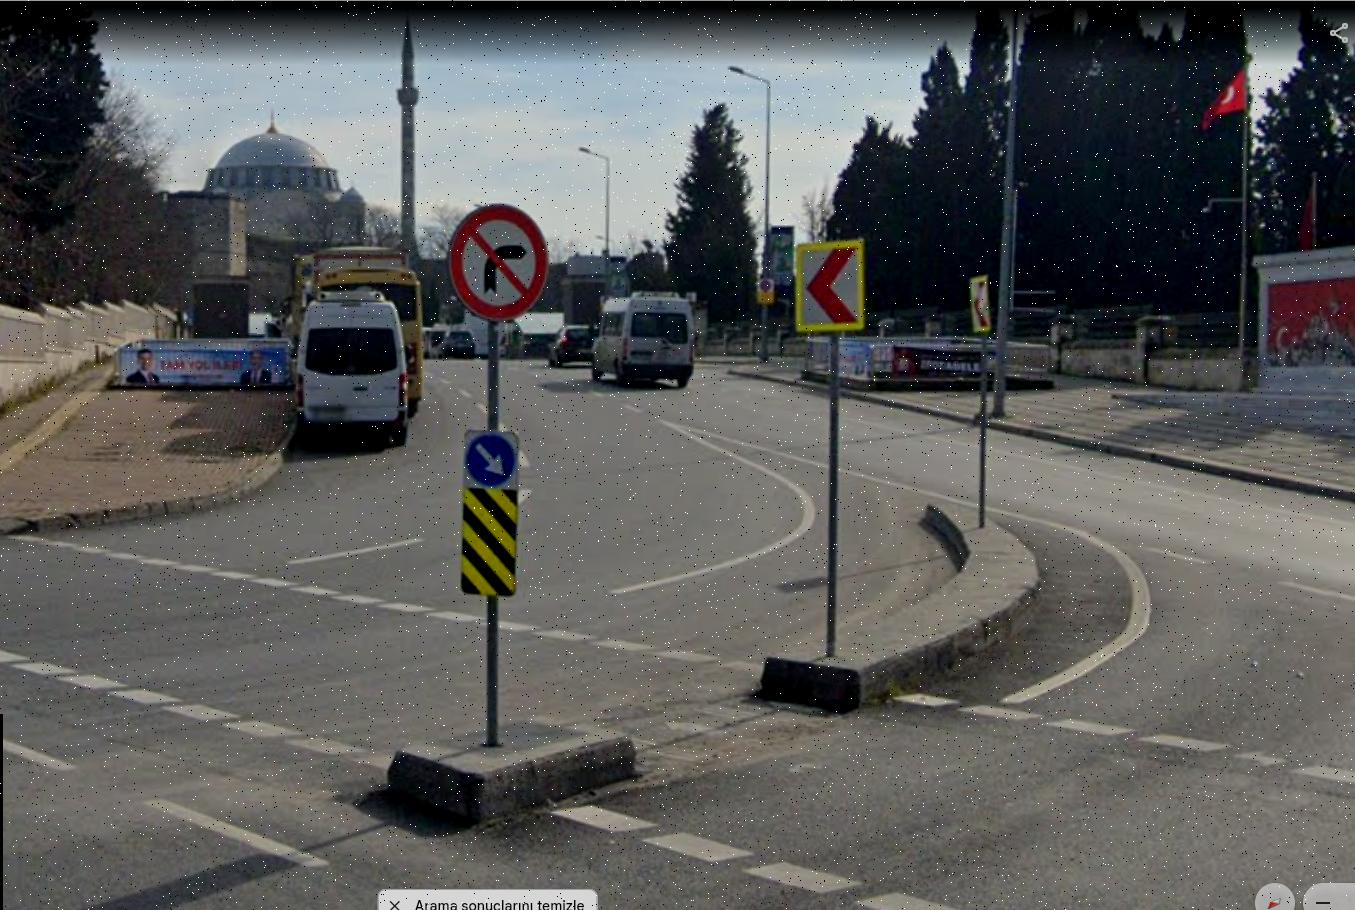rightturnsareforbidden: (454, 205, 547, 318)
